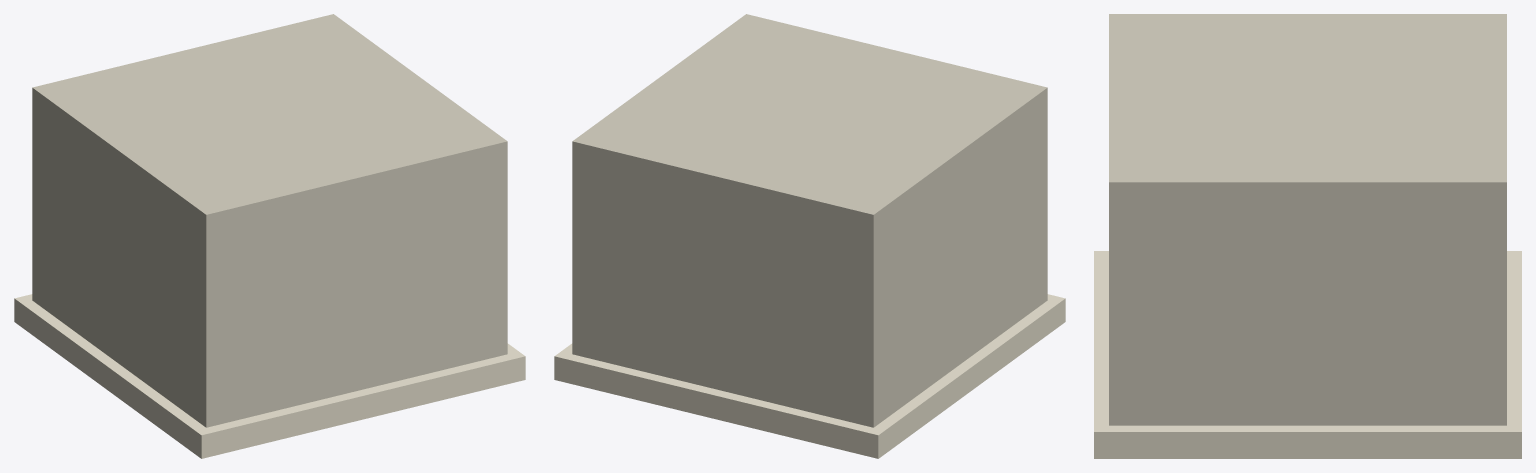
Rendered from square-tower-base.glb.
3 renders of one model, left to right at view 1: azimuth 30°, elevation 25°; view 2: azimuth 150°, elevation 25°; view 3: azimuth 270°, elevation 25°, orthographic. The views are drawn at different scales.
Parts seen in each view (by area): view 1: square-tower-base; view 2: square-tower-base; view 3: square-tower-base.
Part boxes in pixels (x1,y1,x2,y2): square-tower-base: (14, 14, 525, 458); square-tower-base: (554, 14, 1065, 458); square-tower-base: (1094, 14, 1521, 458).
Bounding box in the file's own units: 4.3 × 3 × 4.3.
